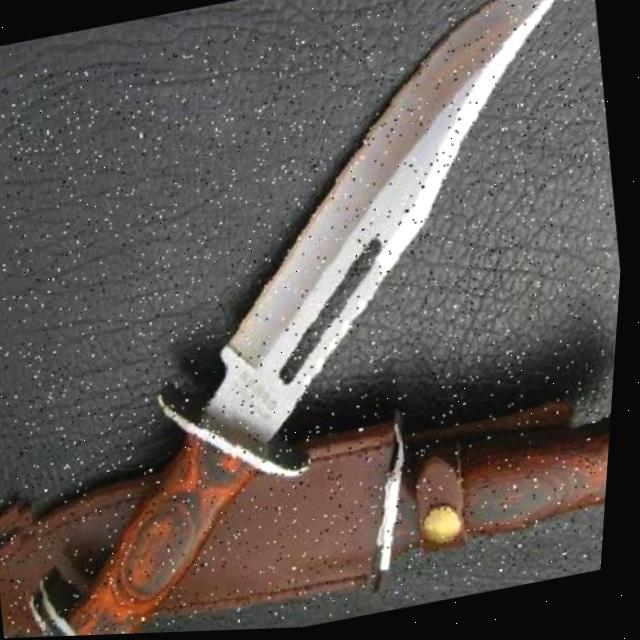knife: (0, 0, 640, 640), (0, 362, 620, 640)
